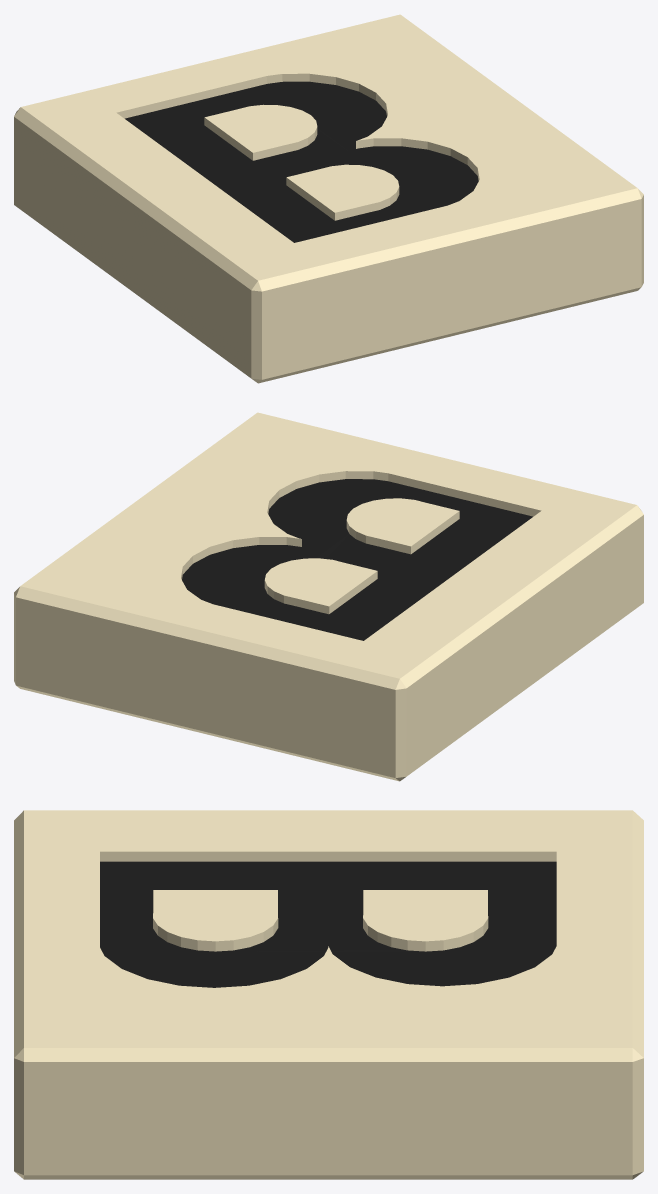
File: Boardgame_Piece_Anagram_Letter_B_01.fbx
3 views of the same model, one above another, from view 1: azimuth 30°, elevation 25°; view 2: azimuth 150°, elevation 25°; view 3: azimuth 270°, elevation 25° (orthographic). The views are drawn at different scales.
Visible parts, largest first — view 1: Boardgame_Piece_Anagram_Letter_B_01; view 2: Boardgame_Piece_Anagram_Letter_B_01; view 3: Boardgame_Piece_Anagram_Letter_B_01.
Part boxes in pixels (x1=…): Boardgame_Piece_Anagram_Letter_B_01: x1=14, y1=14, x2=643, y2=383; Boardgame_Piece_Anagram_Letter_B_01: x1=14, y1=412, x2=643, y2=781; Boardgame_Piece_Anagram_Letter_B_01: x1=14, y1=810, x2=643, y2=1179.
Bounding box in the file's own units: 1000 × 250 × 1083.
